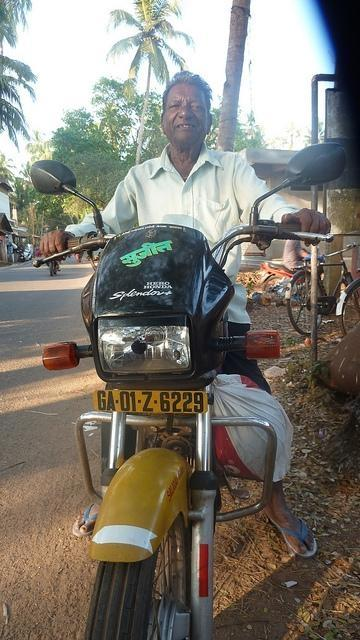bicycle: (285, 247, 359, 338)
motorcycle: (33, 158, 341, 632)
